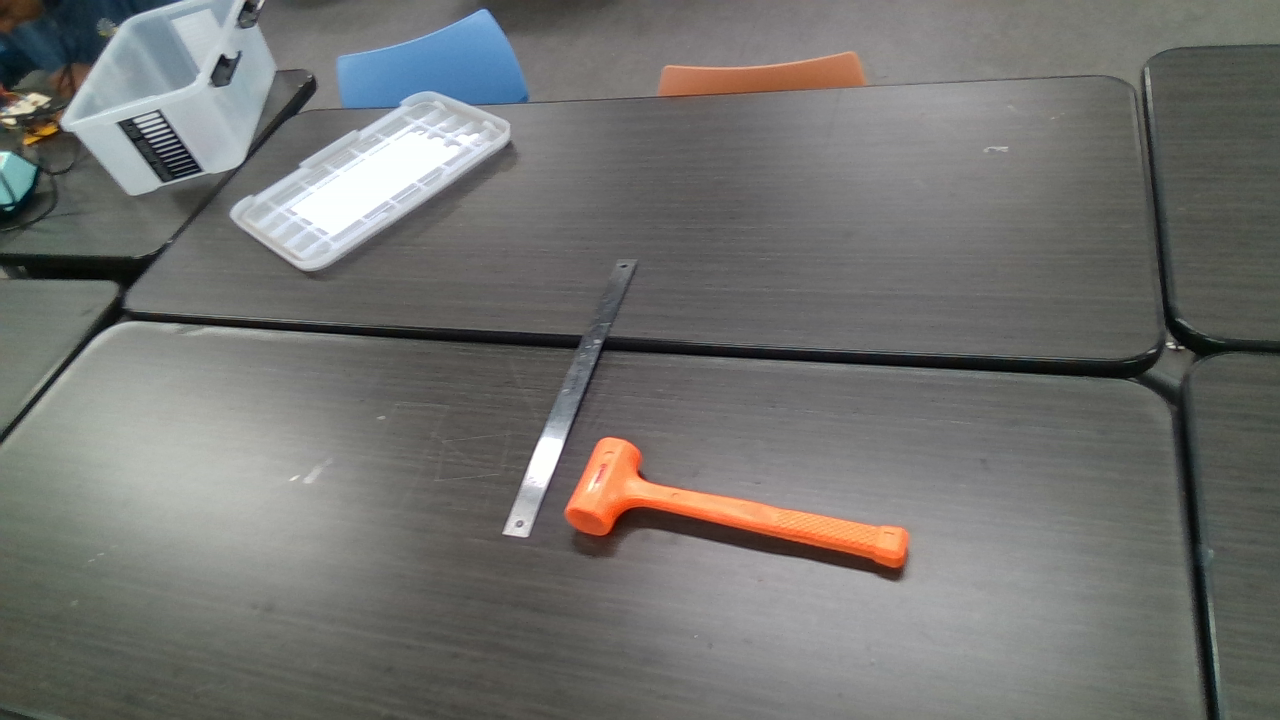Orange Hammer: (571, 439, 909, 570)
